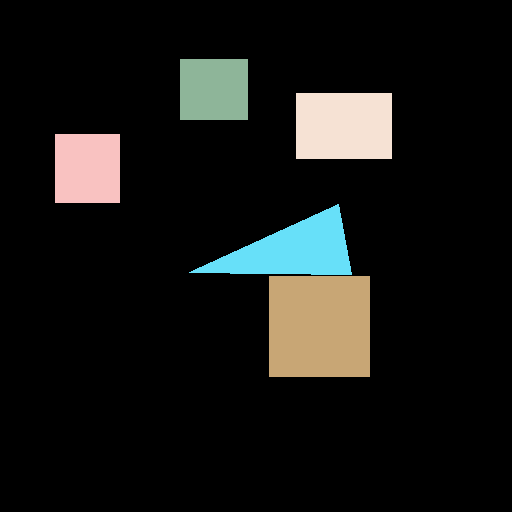rectangle: (296, 93, 391, 158), (180, 59, 247, 119)
square: (269, 276, 369, 376), (55, 134, 119, 202)
triangle: (189, 204, 351, 274)
